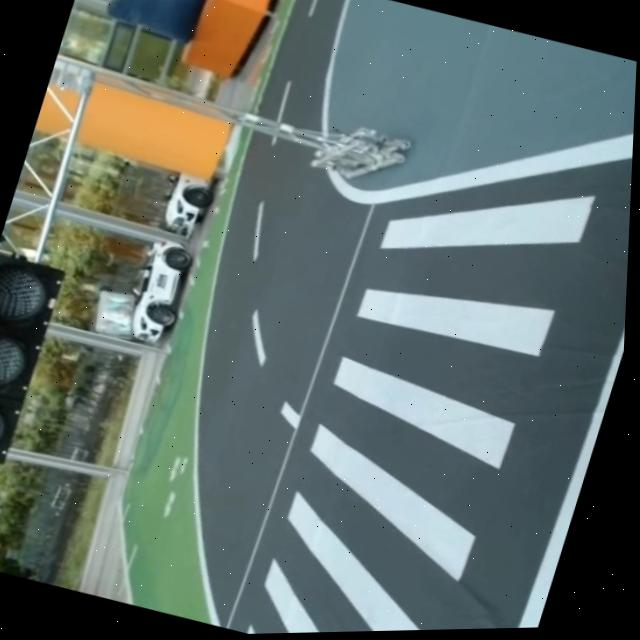traffic-light: (0, 239, 72, 477)
